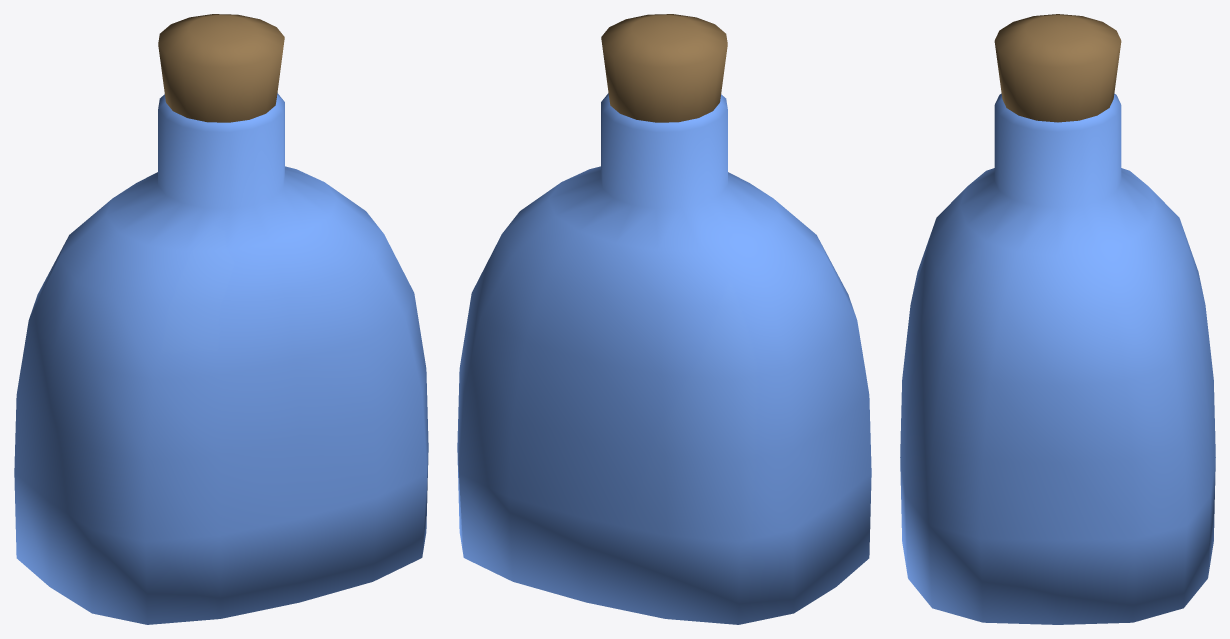
The model's file is HealthPotionSquare.fbx.
3 views of the same model, side by side, from view 1: azimuth 30°, elevation 25°; view 2: azimuth 150°, elevation 25°; view 3: azimuth 270°, elevation 25° (orthographic).
Visible parts, largest first — view 1: Sphere.005; view 2: Sphere.005; view 3: Sphere.005.
Part boxes in pixels (x1,y1,x2,y2): Sphere.005: (14, 14, 428, 624); Sphere.005: (457, 14, 871, 624); Sphere.005: (900, 14, 1215, 624).
Bounding box in the file's own units: 309 × 447 × 248.
